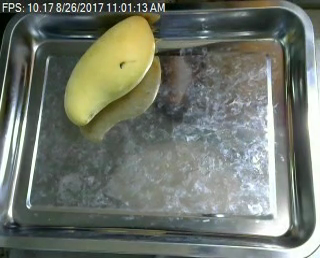Mango: (59, 13, 162, 128)
